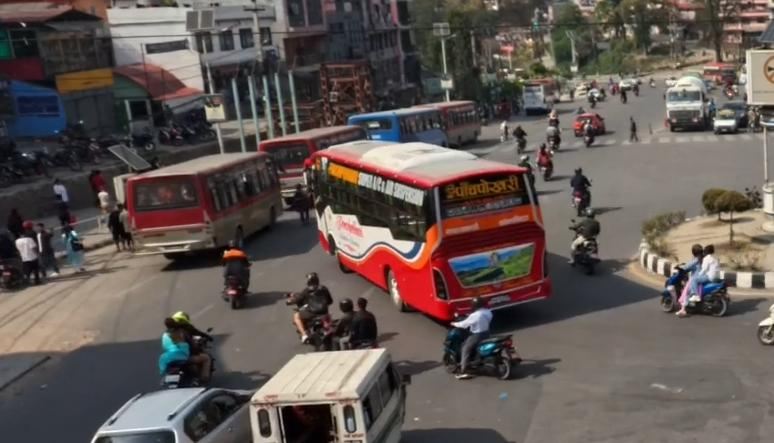bus: (298, 124, 554, 318), (119, 149, 287, 262)
scooter: (440, 316, 522, 384), (659, 262, 736, 322), (565, 222, 601, 277)
tempo: (248, 344, 414, 443)
